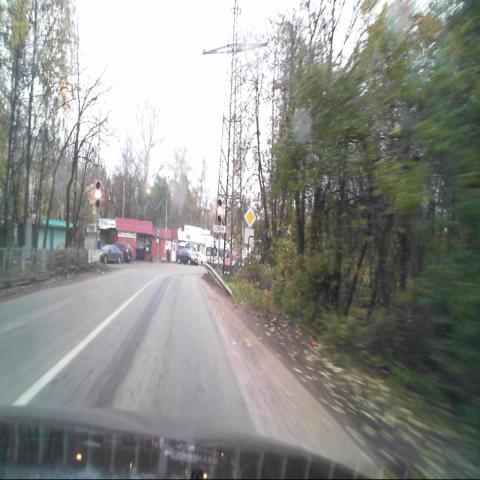2_1: (244, 208, 256, 228)
8_13: (244, 228, 254, 244)
